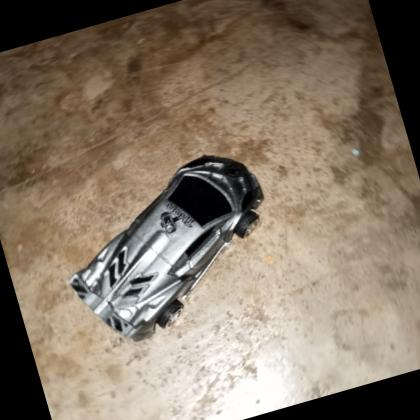Car: (68, 155, 264, 342)
